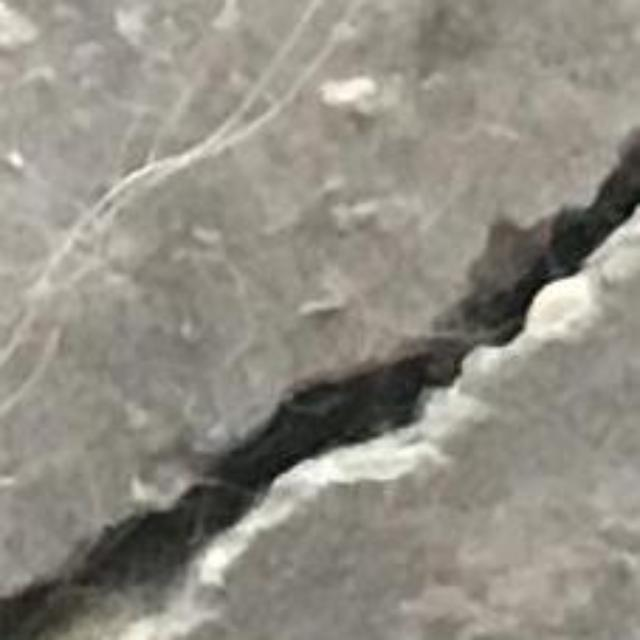crack: (0, 133, 639, 639)
